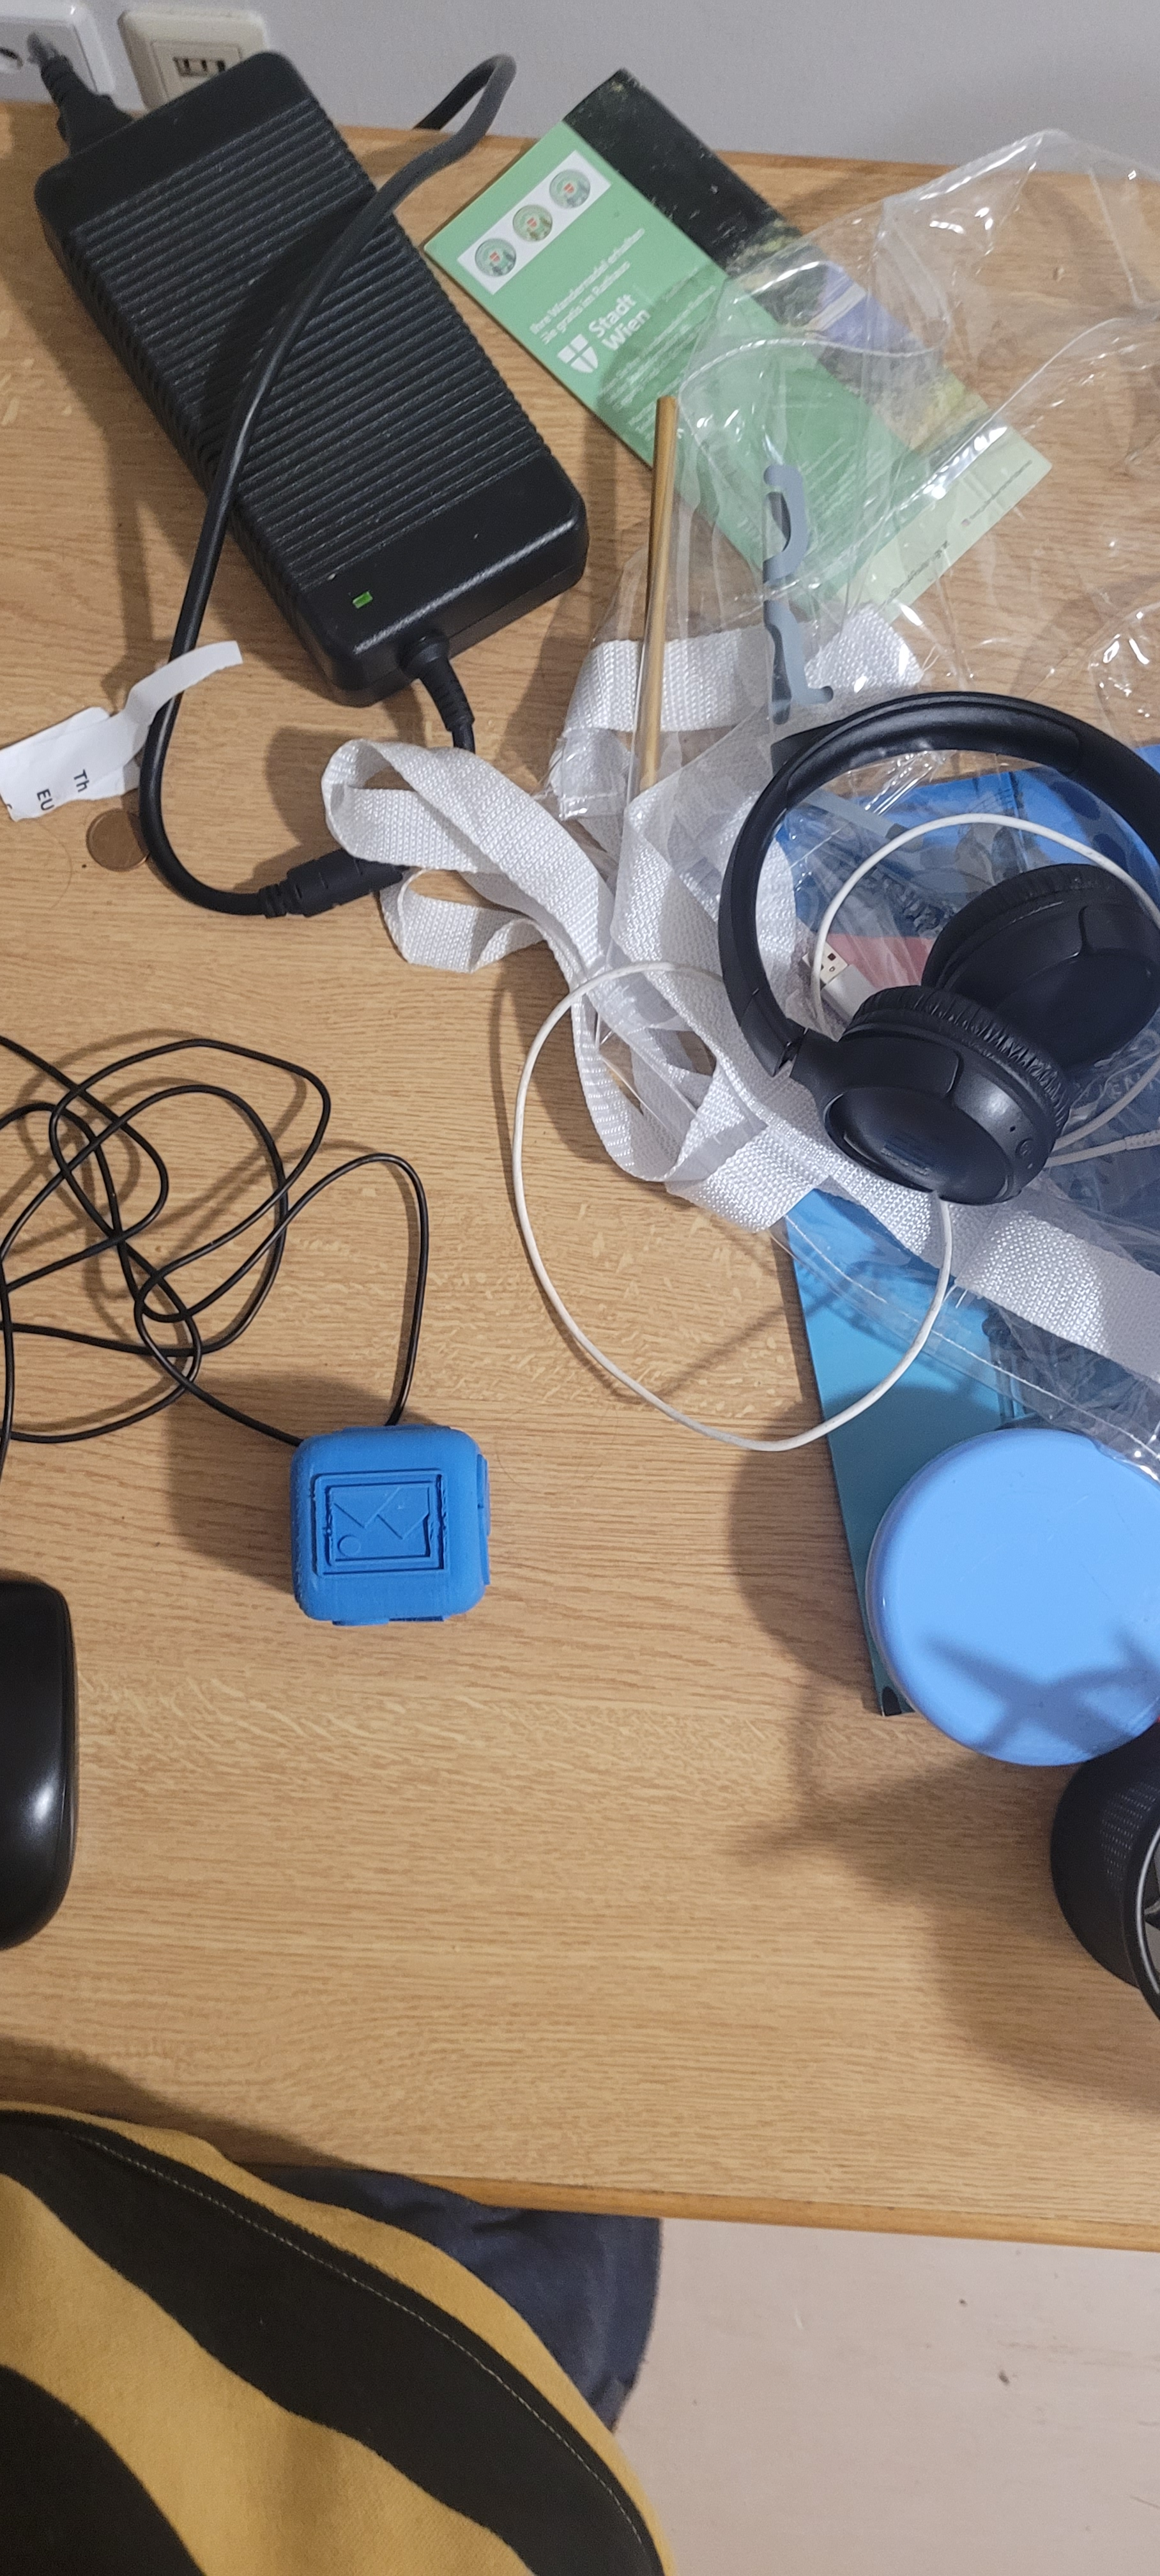Story: (304, 1460, 480, 1602)
